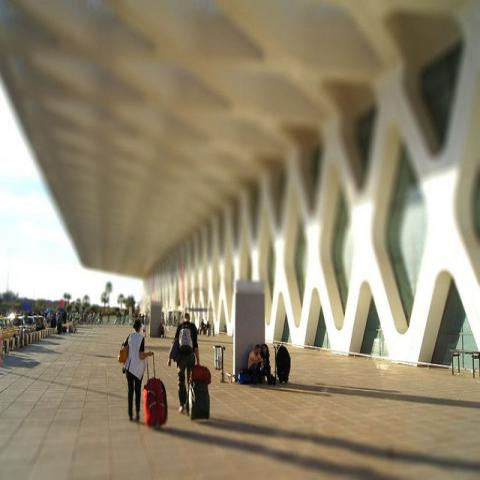car: (0, 318, 19, 340), (18, 316, 30, 334), (34, 316, 46, 330), (28, 316, 36, 332)
